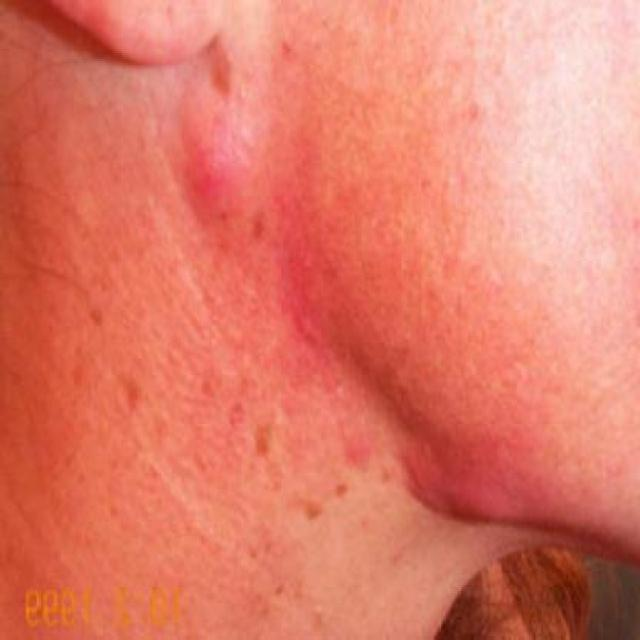nodules: (431, 448, 534, 546), (190, 106, 258, 253)
